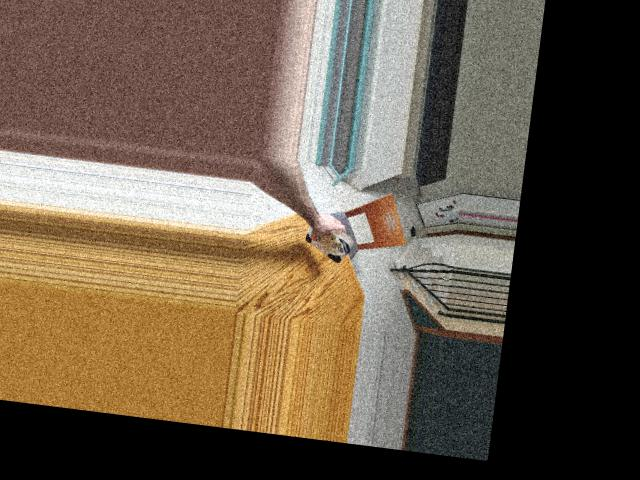cheese: (299, 211, 356, 264)
